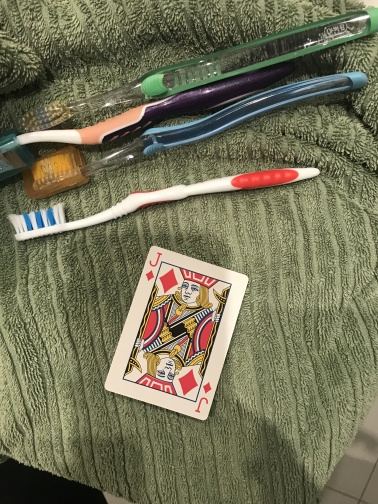jack: (103, 244, 251, 423)
